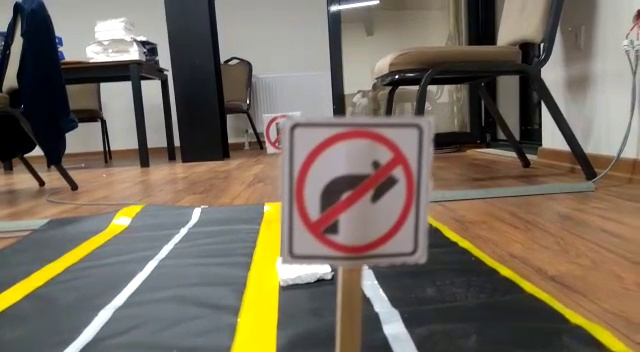saga_donulmez: (287, 120, 424, 259)
